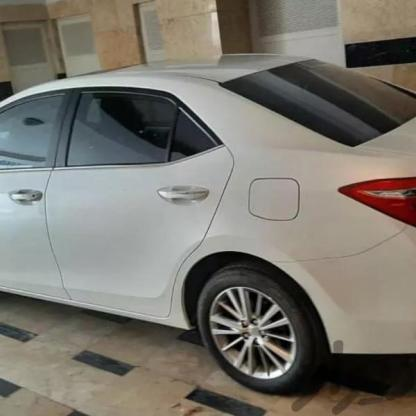Car: (0, 48, 416, 387)
